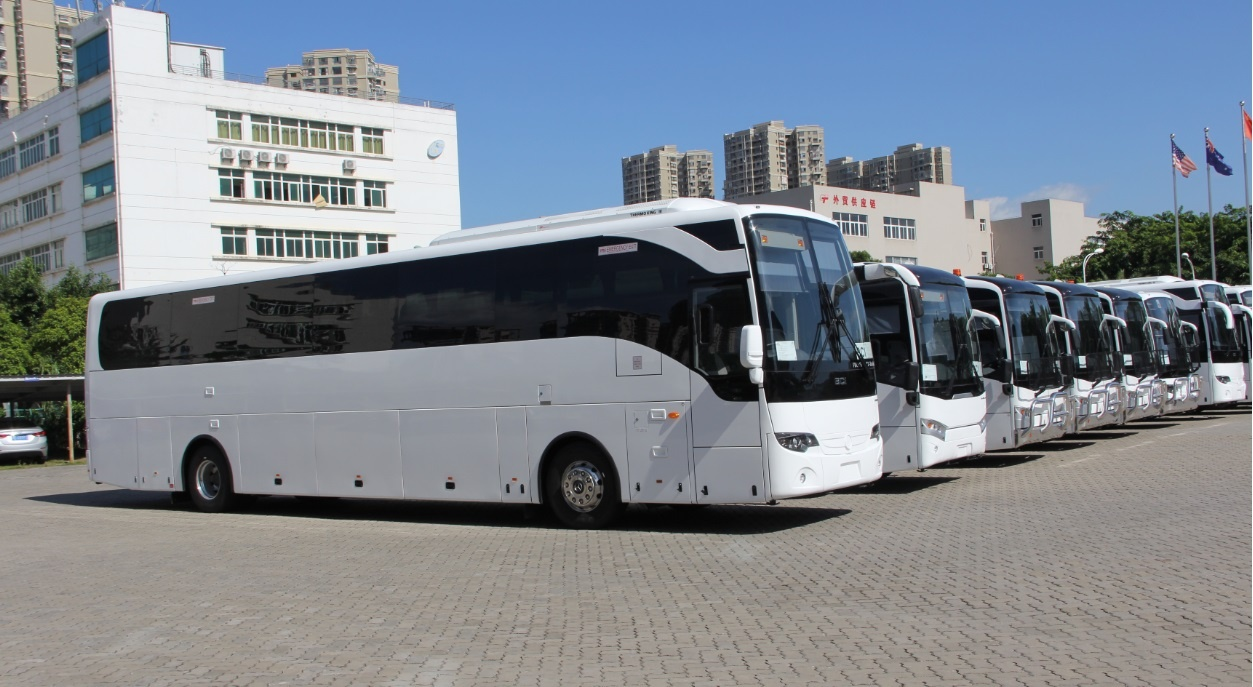bus: (76, 222, 882, 530)
